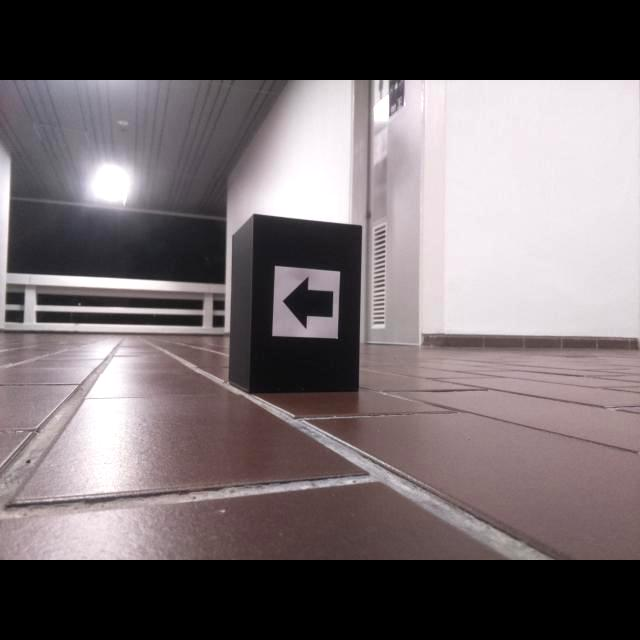LEFT: (282, 274, 333, 331)
